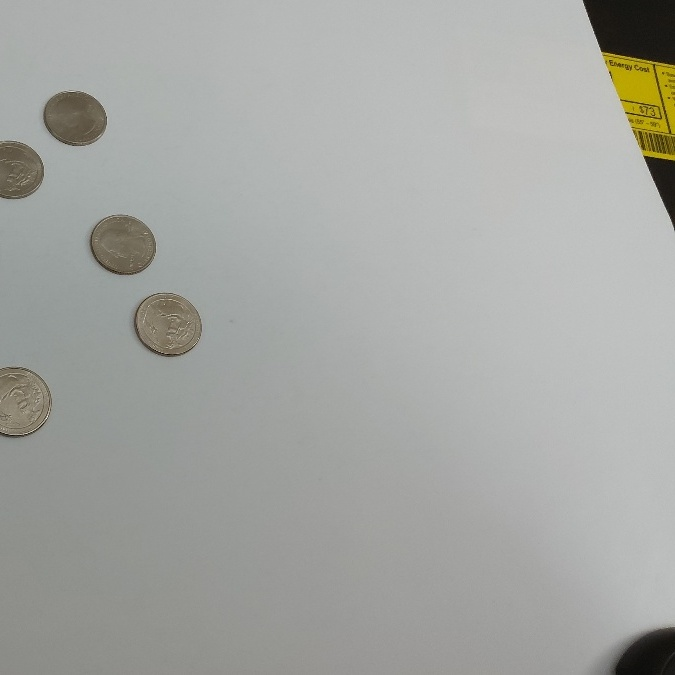coin_quarter: (133, 291, 204, 358), (85, 212, 157, 276), (39, 87, 111, 151)
